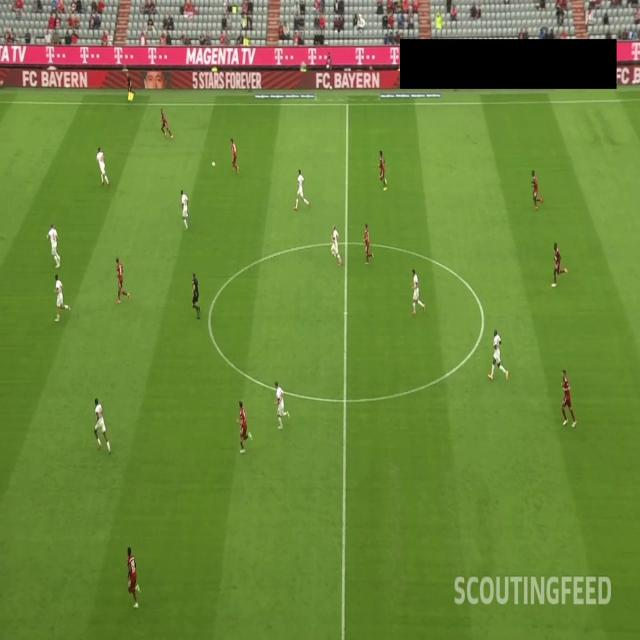ball: (209, 156, 217, 172)
player: (560, 366, 577, 431), (274, 375, 291, 431), (124, 545, 140, 603), (93, 397, 110, 450), (492, 329, 508, 384), (52, 277, 69, 322), (236, 400, 251, 450), (329, 221, 344, 266), (410, 265, 424, 313), (294, 170, 309, 211), (47, 223, 61, 266), (552, 241, 565, 287), (97, 144, 109, 188), (362, 219, 374, 262), (160, 105, 174, 141), (115, 258, 126, 301), (532, 169, 543, 206), (180, 189, 189, 228), (230, 137, 239, 173), (378, 150, 386, 190)
